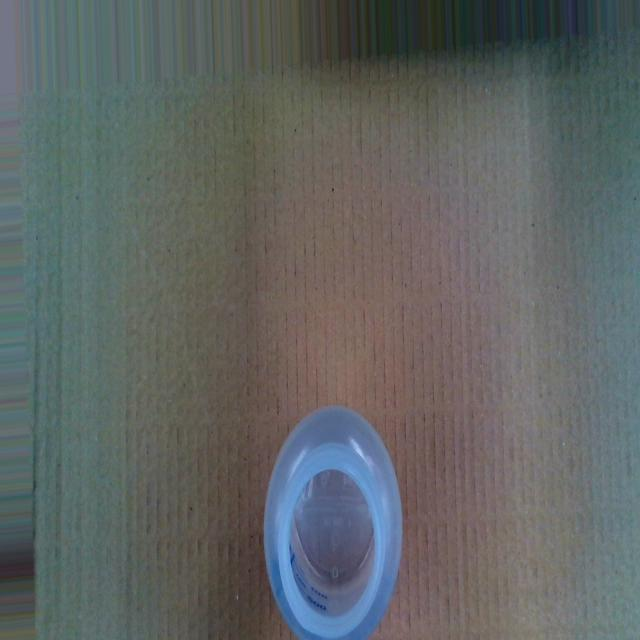bottle: (263, 403, 405, 640)
